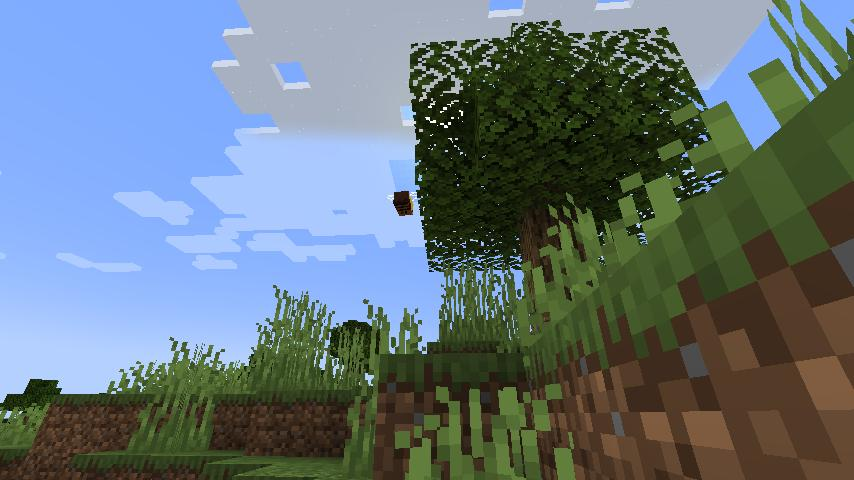bee: (383, 188, 419, 219)
